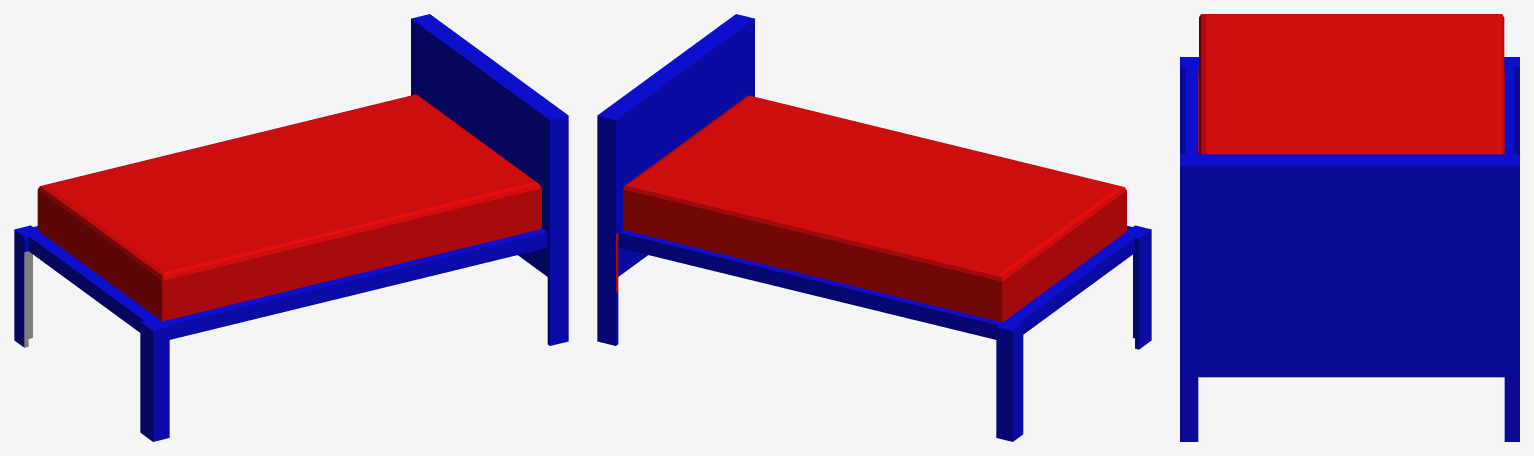
File: Bed.fbx
3 renders of one model, left to right at view 1: azimuth 30°, elevation 25°; view 2: azimuth 150°, elevation 25°; view 3: azimuth 270°, elevation 25°, orthographic. The views are drawn at different scales.
Visible parts, largest first — view 1: pCube2; view 2: pCube2; view 3: pCube2.
Boxes of the visible parts, bbox=[...] form: pCube2: bbox=[14, 14, 568, 441]; pCube2: bbox=[597, 14, 1151, 441]; pCube2: bbox=[1180, 14, 1519, 441].
Bounding box in the file's own units: 205 × 106 × 119.
